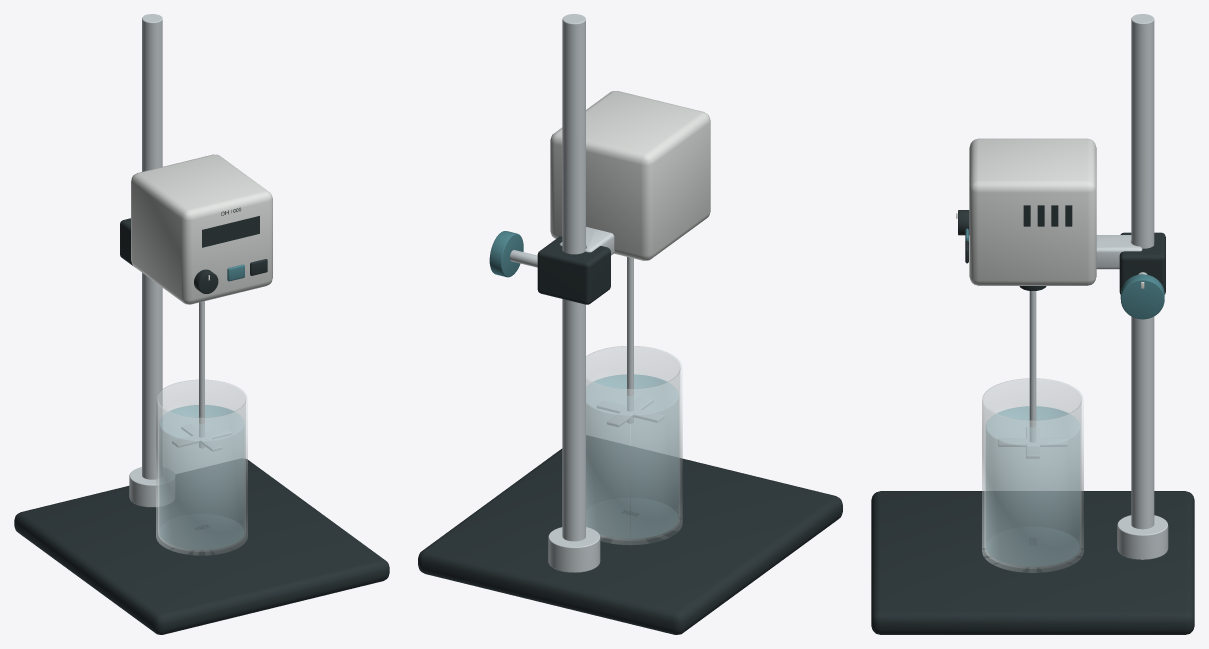
Rendered from preview.glb.
The picture shows the model from 3 angles, left to right: view 1: azimuth 30°, elevation 25°; view 2: azimuth 150°, elevation 25°; view 3: azimuth 270°, elevation 25°; orthographic projection. The views are drawn at different scales.
Parts seen in each view (by area): view 1: Stand base, Motor housing, Sample vessel, Synthetic liquid fixture, Column collar, Paddle blade, Live LCD surface; view 2: Stand base, Motor housing, Sample vessel, Synthetic liquid fixture, Column collar, Motor vent, Paddle blade, Clamp handwheel, Support arm; view 3: Stand base, Sample vessel, Motor housing, Synthetic liquid fixture, Column collar, Motor vent, Paddle blade, Clamp handwheel, Support arm.
Boxes of the visible parts, x1,y1,x2,y2 form: Stand base: (14,459,389,634); Motor housing: (131,154,272,304); Sample vessel: (156,379,247,555); Synthetic liquid fixture: (159,405,244,549); Column collar: (129,14,174,507); Paddle blade: (172,301,231,451); Live LCD surface: (202,216,259,247); Stand base: (418,435,842,634); Motor housing: (550,91,710,260); Sample vessel: (586,346,682,545); Synthetic liquid fixture: (586,374,678,538); Column collar: (548,14,600,572); Motor vent: (537,236,610,304); Paddle blade: (597,257,663,426); Clamp handwheel: (489,231,523,277); Support arm: (559,227,614,255); Stand base: (871,491,1194,634); Sample vessel: (982,378,1083,572); Motor housing: (969,138,1096,285); Synthetic liquid fixture: (986,406,1079,566); Column collar: (1117,14,1168,559); Motor vent: (1023,205,1165,294); Paddle blade: (998,291,1067,458); Clamp handwheel: (1120,274,1164,319); Support arm: (1096,235,1142,269).
Bounding box in the file's own units: 0.26 × 0.535 × 0.28.
